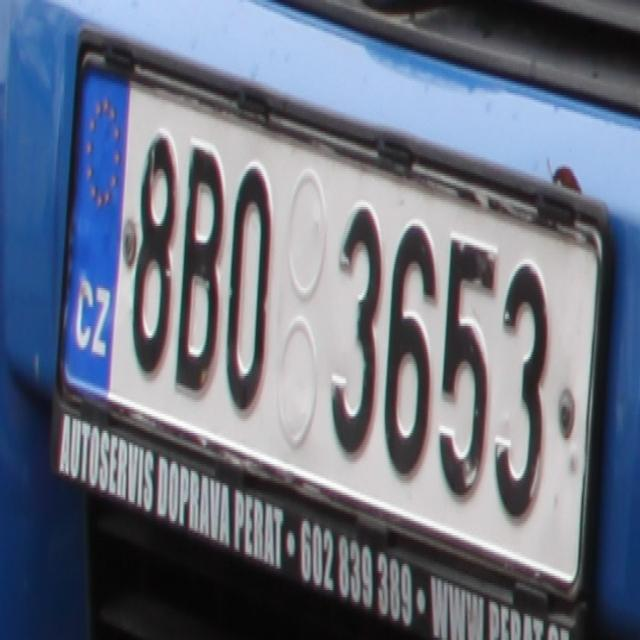0: (224, 160, 270, 422)
3: (492, 248, 546, 512), (330, 190, 381, 452)
5: (436, 226, 491, 497)
6: (383, 207, 438, 471)
8: (128, 128, 178, 374)
B: (177, 138, 222, 398)
